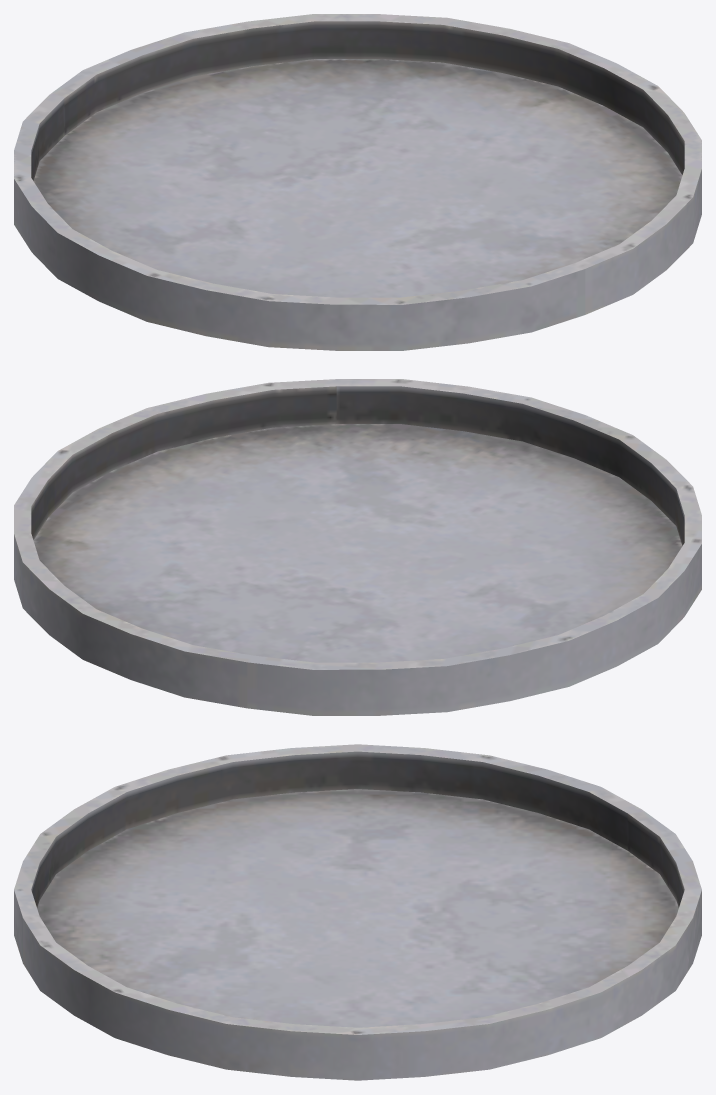
File: petridish.DAE
3 views of the same model, one above another, from view 1: azimuth 30°, elevation 25°; view 2: azimuth 150°, elevation 25°; view 3: azimuth 270°, elevation 25° (orthographic).
Parts seen in each view (by area): view 1: petridish; view 2: petridish; view 3: petridish.
Part boxes in pixels (x1=…): petridish: x1=14, y1=14, x2=701, y2=350; petridish: x1=14, y1=379, x2=701, y2=715; petridish: x1=14, y1=744, x2=701, y2=1080.
Bounding box in the file's own units: 23.79 × 1.74 × 23.79.
